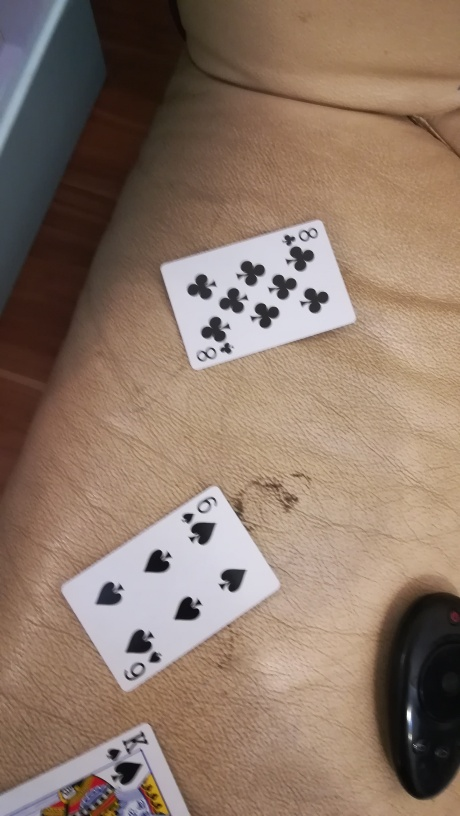ht 6: (57, 483, 289, 698)
ht k: (1, 715, 198, 816)
mh 8: (156, 219, 361, 369)
